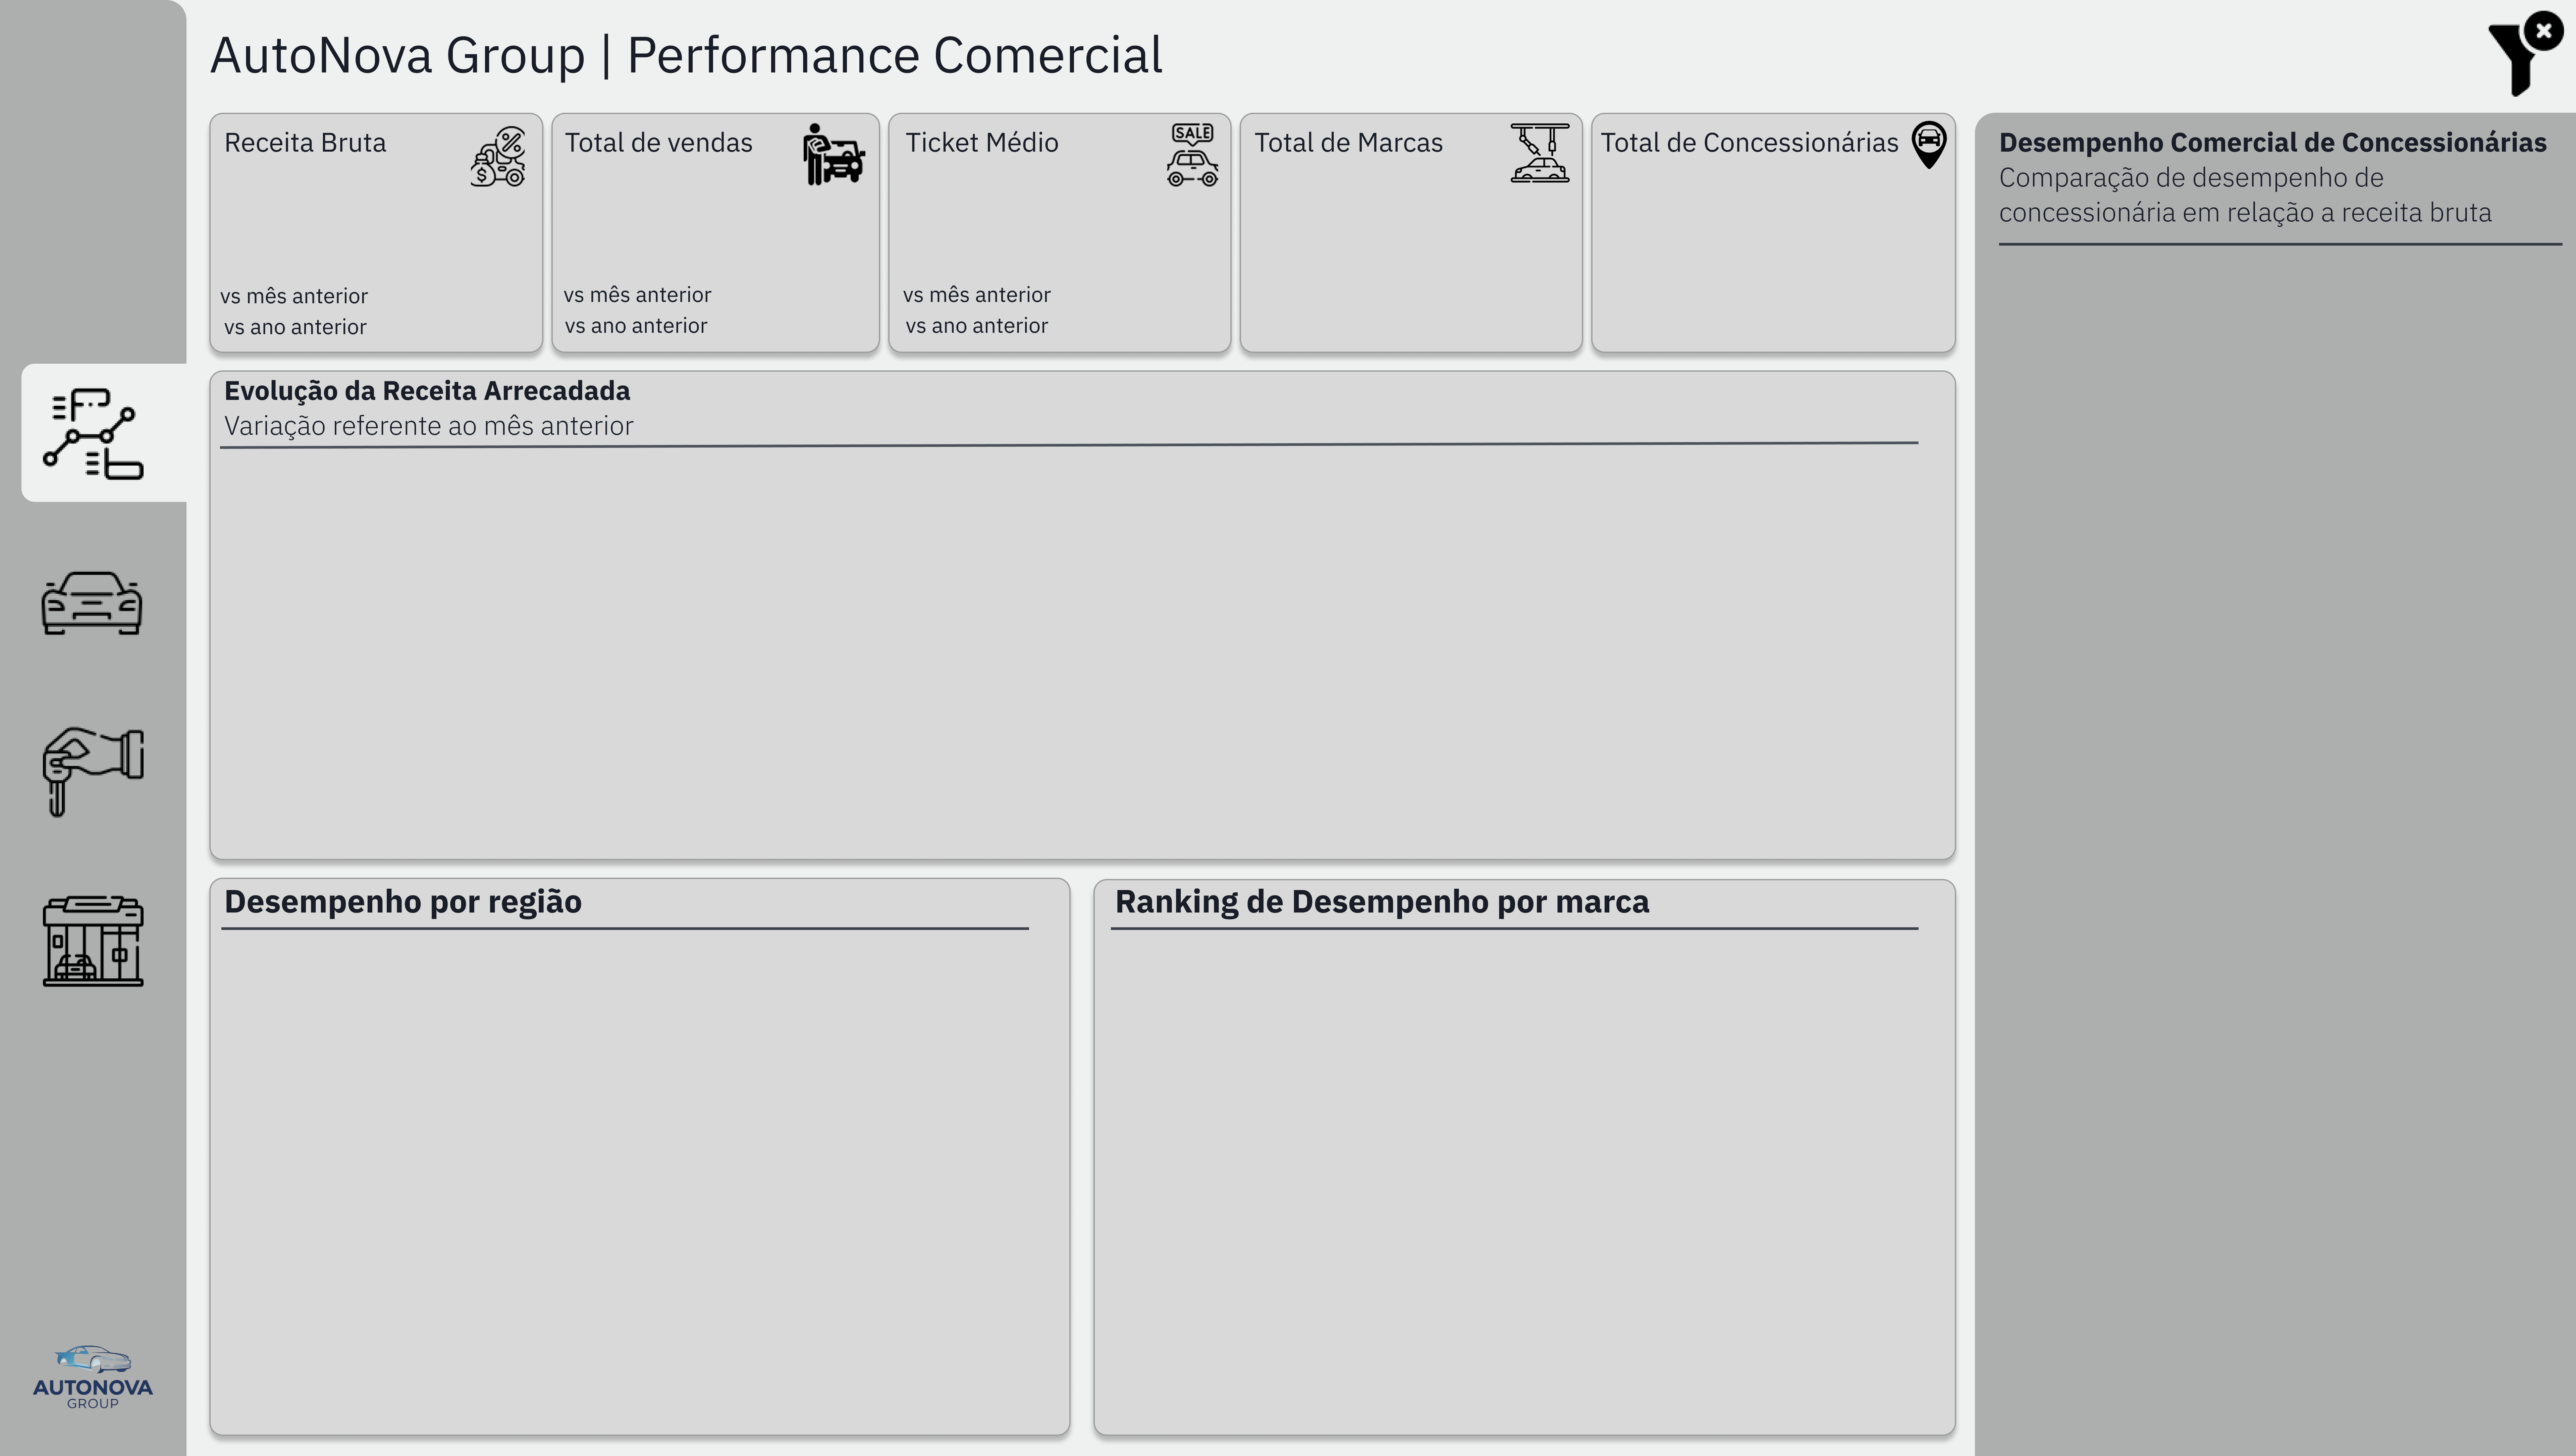

The page's visual inventory and layout, read from the dashboard file:
{"tool":"powerbi","page":{"name":"Performance Comercial","canvas":[1920,1080],"ordinal":1},"visuals":[{"type":"cardVisual","fields":{"Data":["Metricas/KPIs.Receita Bruta"]},"box":[381.9,0,279.5,279.5],"z":0},{"type":"cardVisual","fields":{"Data":["Metricas/KPIs.Qte. Vendida"]},"box":[740.3,0,281.6,279.5],"z":1},{"type":"cardVisual","fields":{"Data":["Metricas/KPIs.Ticket Médio"]},"box":[1094.4,0,279.5,281.6],"z":2},{"type":"lineChart","fields":{"Category":["car_sales.data_compra.Variation.Hierarquia de datas.Mês"],"Y":["Metricas/KPIs.Receita Bruta"]},"box":[381.9,302.9,992,349.9],"z":3},{"type":"barChart","fields":{"Category":["car_sales.empresa"],"Y":["Metricas/KPIs.Receita Bruta"]},"box":[881.1,672,492.8,390.4],"z":4},{"type":"columnChart","fields":{"Category":["car_sales.regiao_concessionaria"],"Y":["Metricas/KPIs.Receita Bruta"]},"box":[381.9,672,492.8,390.4],"z":5},{"type":"advancedSlicerVisual","fields":{"Values":["car_sales.data_compra.Variation.Hierarquia de datas.Ano"]},"box":[1094.4,281.6,266.7,89.6],"z":6},{"type":"advancedSlicerVisual","fields":{"Values":["car_sales.concessionaria"]},"box":[1418.1,303.2,501.1,759],"z":7},{"type":"textbox","box":[1418.1,0,501.1,279.6],"z":8}]}

Visuals, with their boxes on the page's 1920x1080 design canvas (x1, y1, x2, y2). These are canvas units, not pixel positions in the 2576x1456 screenshot, which may show the page scaled, cropped or inside an application window:
cardVisual - Metricas/KPIs.Receita Bruta: x1=382, y1=0, x2=661, y2=280
cardVisual - Metricas/KPIs.Qte. Vendida: x1=740, y1=0, x2=1022, y2=280
cardVisual - Metricas/KPIs.Ticket Médio: x1=1094, y1=0, x2=1374, y2=282
lineChart - car_sales.data_compra.Variation.Hierarquia de datas.Mês x Metricas/KPIs.Receita Bruta: x1=382, y1=303, x2=1374, y2=653
barChart - car_sales.empresa x Metricas/KPIs.Receita Bruta: x1=881, y1=672, x2=1374, y2=1062
columnChart - car_sales.regiao_concessionaria x Metricas/KPIs.Receita Bruta: x1=382, y1=672, x2=875, y2=1062
advancedSlicerVisual - car_sales.data_compra.Variation.Hierarquia de datas.Ano: x1=1094, y1=282, x2=1361, y2=371
advancedSlicerVisual - car_sales.concessionaria: x1=1418, y1=303, x2=1919, y2=1062
textbox: x1=1418, y1=0, x2=1919, y2=280
